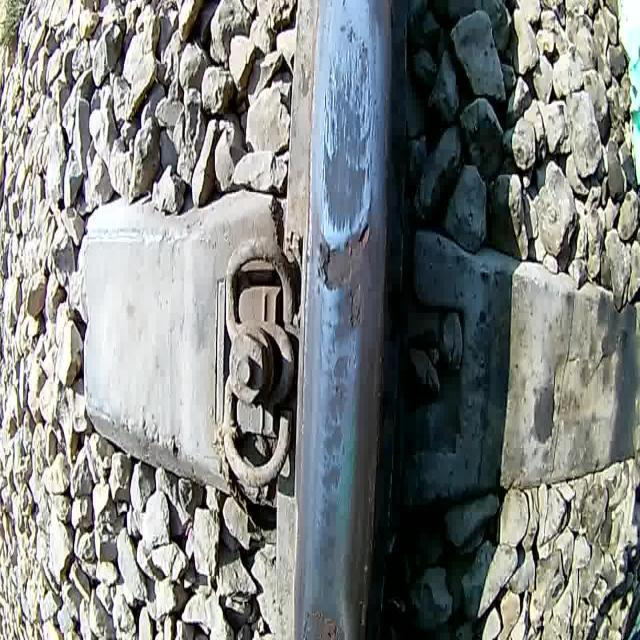Spallings: (313, 239, 355, 292), (356, 218, 374, 253)
Squats: (320, 25, 377, 237), (310, 352, 358, 596), (316, 230, 376, 348), (299, 602, 346, 640)
